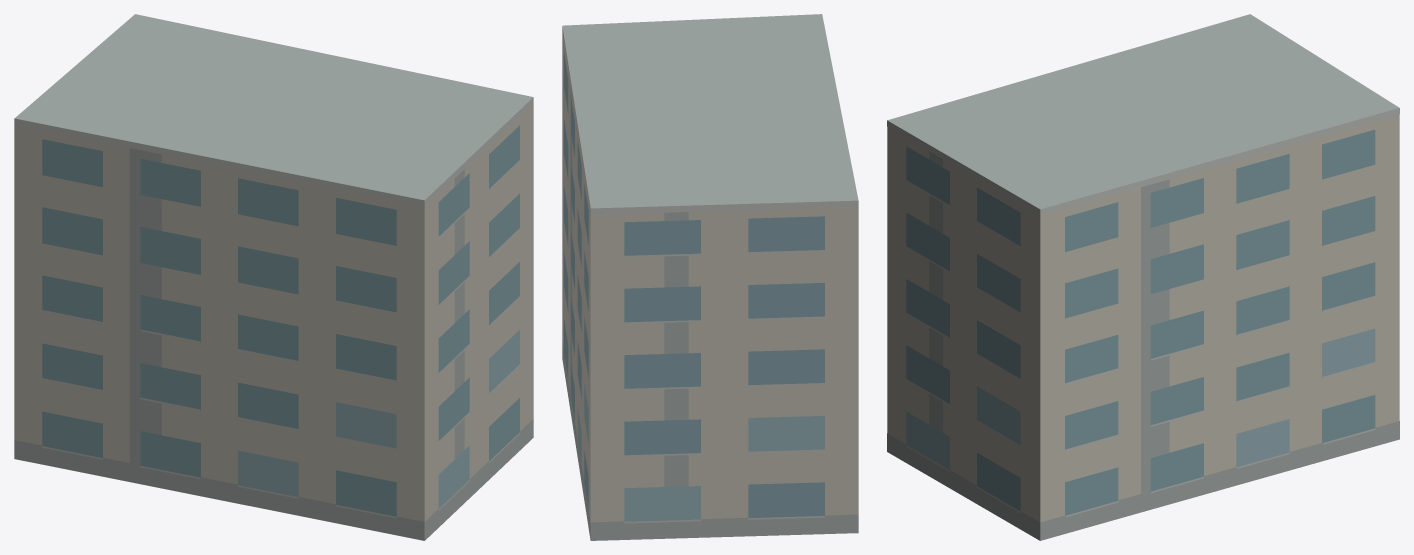
File: survey-upis-32842156.glb
3 views of the same model, side by side, from view 1: azimuth 30°, elevation 25°; view 2: azimuth 150°, elevation 25°; view 3: azimuth 270°, elevation 25° (orthographic). The views are drawn at different scales.
Parts seen in each view (by area): view 1: survey-upis-32842156.tmp; view 2: survey-upis-32842156.tmp; view 3: survey-upis-32842156.tmp.
Part boxes in pixels (x1=…): survey-upis-32842156.tmp: x1=14, y1=14, x2=533, y2=540; survey-upis-32842156.tmp: x1=562, y1=14, x2=858, y2=540; survey-upis-32842156.tmp: x1=887, y1=14, x2=1399, y2=540.
Size of the model in its own units: 16.06 by 12.7 by 17.81.
